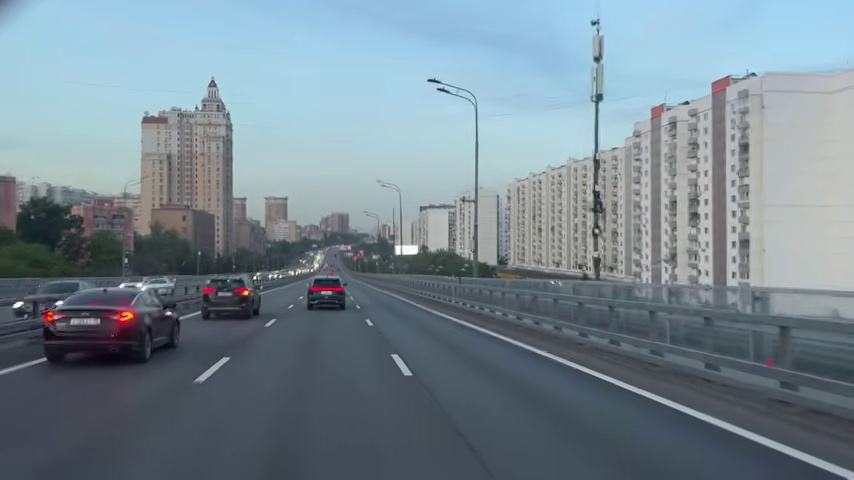apagada: (425, 75, 450, 97)
